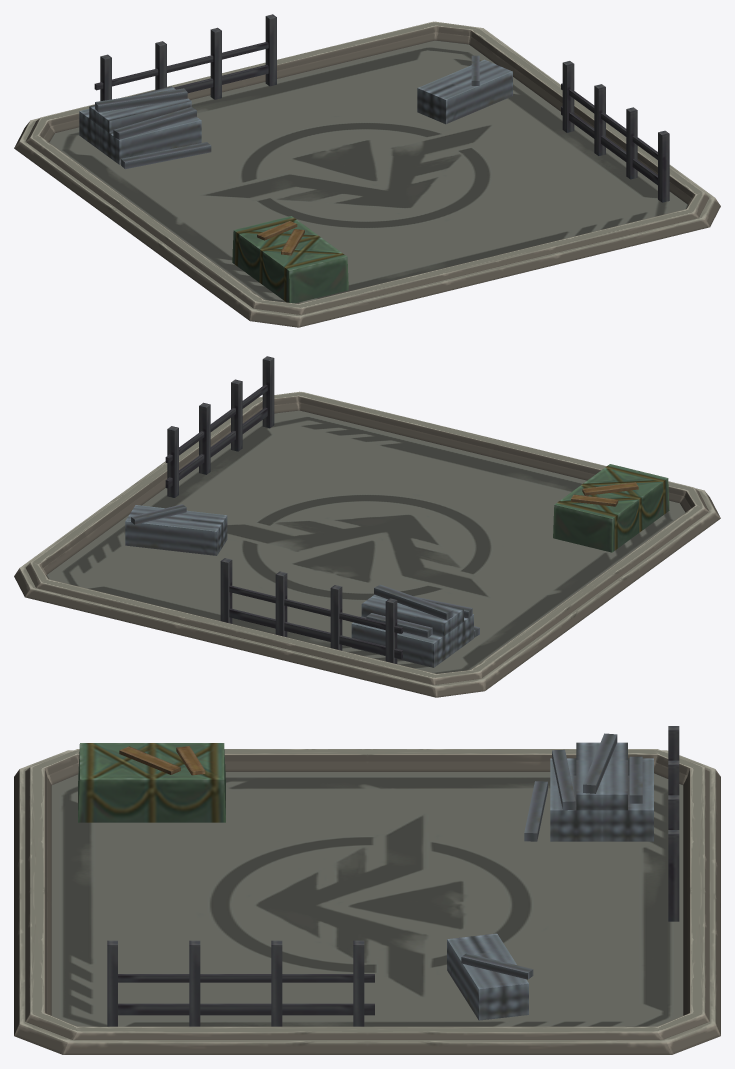
File: kongxianjianzhu_05.FBX
3 renders of one model, top to bottom at view 1: azimuth 30°, elevation 25°; view 2: azimuth 150°, elevation 25°; view 3: azimuth 270°, elevation 25°, orthographic. The views are drawn at different scales.
Parts seen in each view (by area): view 1: kongxianjianzhu_05; view 2: kongxianjianzhu_05; view 3: kongxianjianzhu_05.
Boxes of the visible parts, x1=… form: kongxianjianzhu_05: x1=14, y1=14, x2=720, y2=327; kongxianjianzhu_05: x1=14, y1=356, x2=720, y2=697; kongxianjianzhu_05: x1=14, y1=726, x2=720, y2=1054.
Size of the model in its own units: 1939 by 1952 by 293.
Materials: 1 (1 with a texture image).
